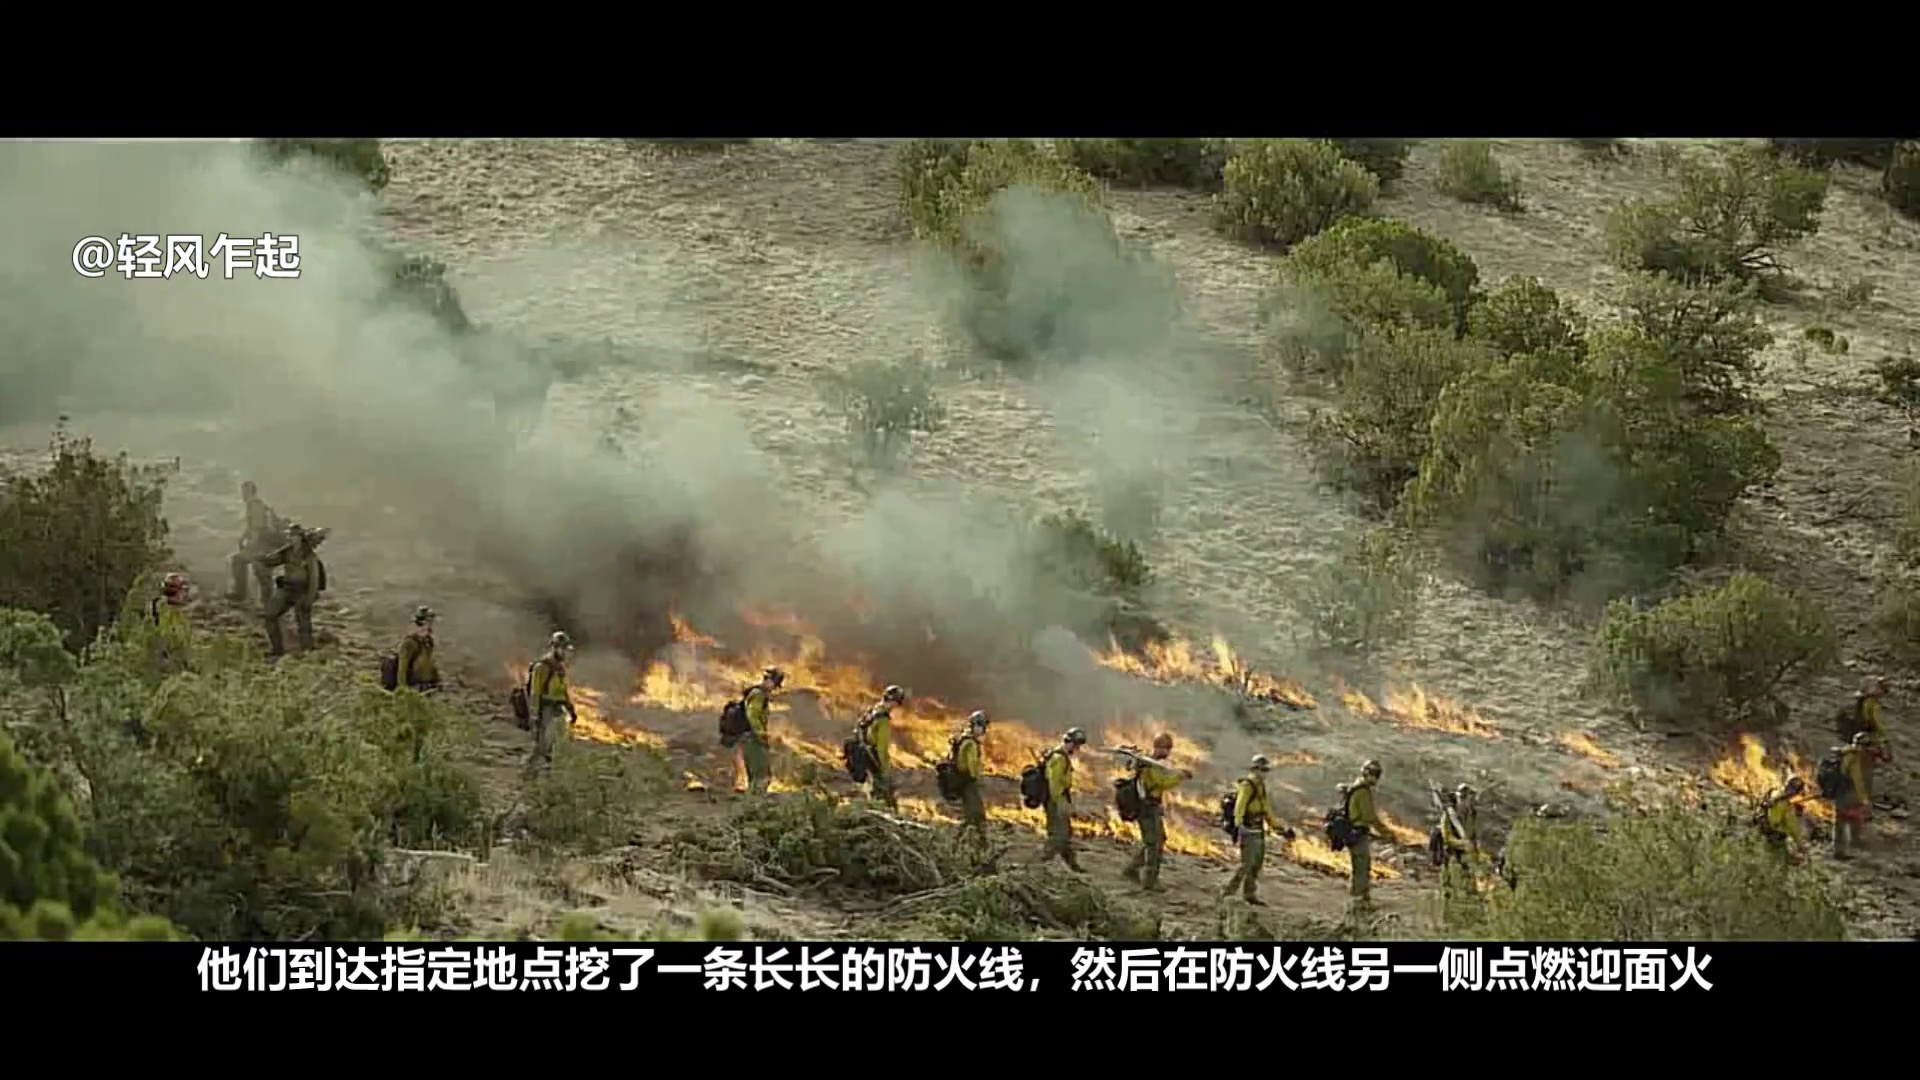fire: (1095, 611, 1237, 688), (1346, 679, 1491, 736), (638, 657, 728, 709), (1724, 736, 1774, 793), (899, 711, 952, 757), (1286, 843, 1338, 873), (996, 724, 1029, 771), (988, 800, 1040, 825)
